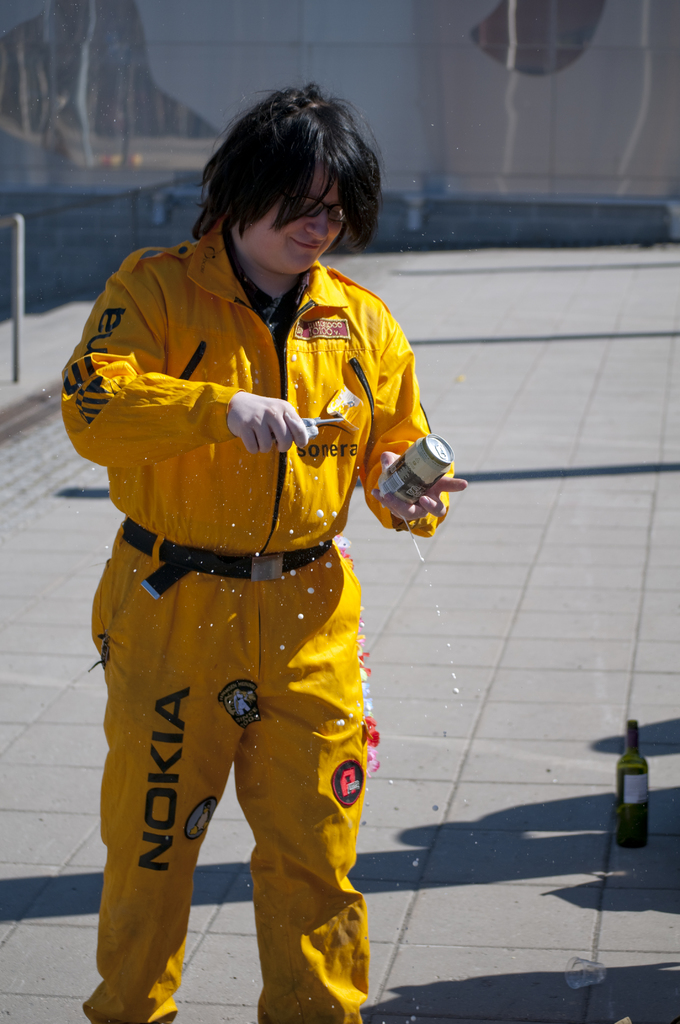Person: (61, 72, 468, 1023)
